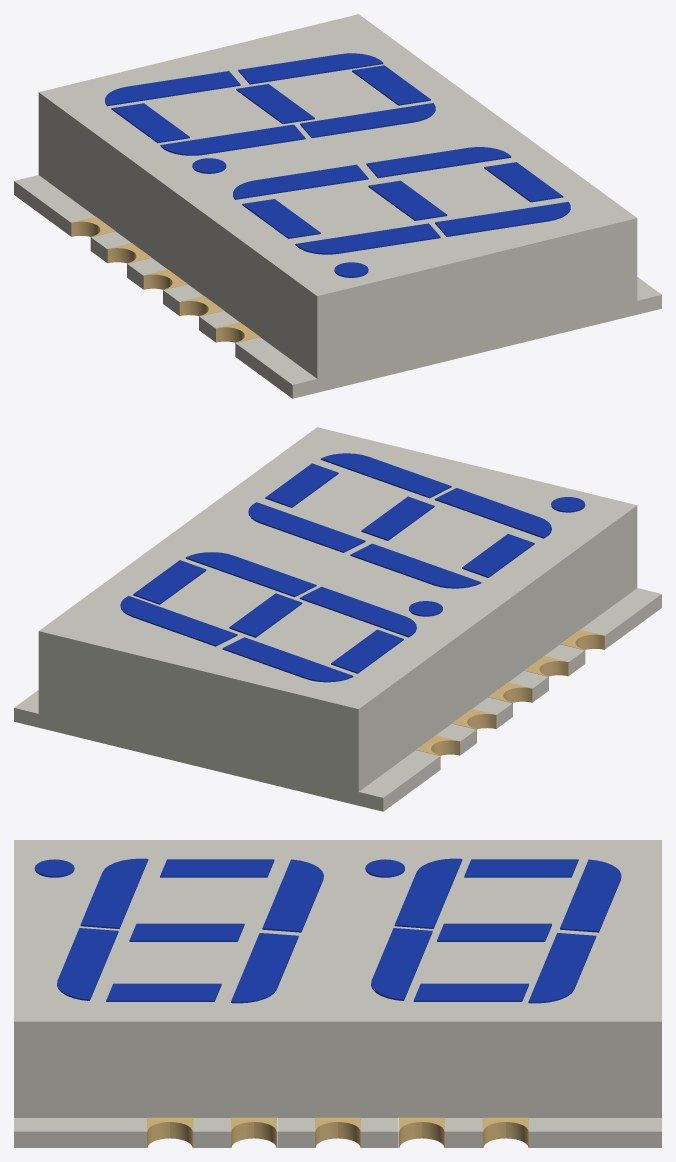
The model's file is kc-hdsm-441b_hdsm-443b.glb.
3 renders of one model, top to bottom at view 1: azimuth 30°, elevation 25°; view 2: azimuth 150°, elevation 25°; view 3: azimuth 270°, elevation 25°, orthographic. The views are drawn at different scales.
Parts seen in each view (by area): view 1: 0.6666666666666666_0.6666666666666666_0.5833333333333334_0.8, 0_0.08333333333333333_0.4166666666666667_0, 0.75_0.5_0.25_0.9; view 2: 0.6666666666666666_0.6666666666666666_0.5833333333333334_0.8, 0_0.08333333333333333_0.4166666666666667_0, 0.75_0.5_0.25_0.9; view 3: 0.6666666666666666_0.6666666666666666_0.5833333333333334_0.8, 0_0.08333333333333333_0.4166666666666667_0, 0.75_0.5_0.25_0.9.
Part boxes in pixels (x1=…): 0.6666666666666666_0.6666666666666666_0.5833333333333334_0.8: x1=14, y1=14, x2=661, y2=398; 0_0.08333333333333333_0.4166666666666667_0: x1=105, y1=53, x2=570, y2=277; 0.75_0.5_0.25_0.9: x1=71, y1=216, x2=259, y2=342; 0.6666666666666666_0.6666666666666666_0.5833333333333334_0.8: x1=14, y1=427, x2=661, y2=811; 0_0.08333333333333333_0.4166666666666667_0: x1=120, y1=453, x2=585, y2=682; 0.75_0.5_0.25_0.9: x1=416, y1=629, x2=604, y2=755; 0.6666666666666666_0.6666666666666666_0.5833333333333334_0.8: x1=14, y1=840, x2=661, y2=1147; 0_0.08333333333333333_0.4166666666666667_0: x1=34, y1=858, x2=621, y2=1003; 0.75_0.5_0.25_0.9: x1=147, y1=1117, x2=528, y2=1147.
Bounding box in the file's own units: 1.5 × 0.38 × 1.96.
